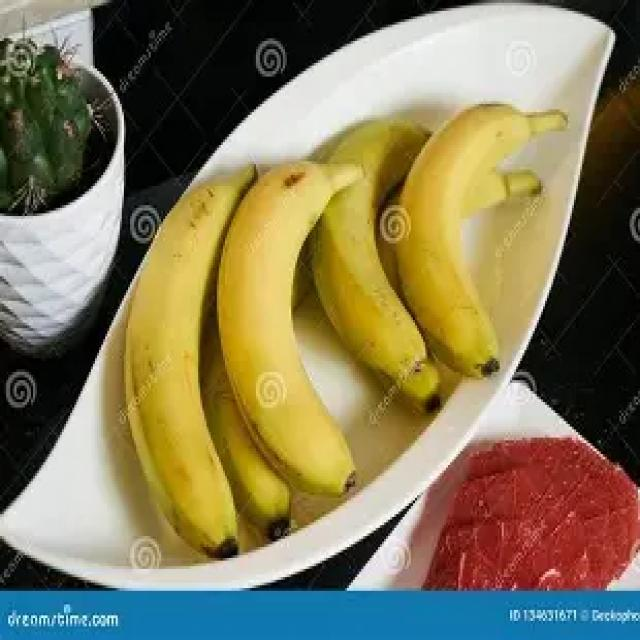BANANA: (122, 98, 567, 557)
